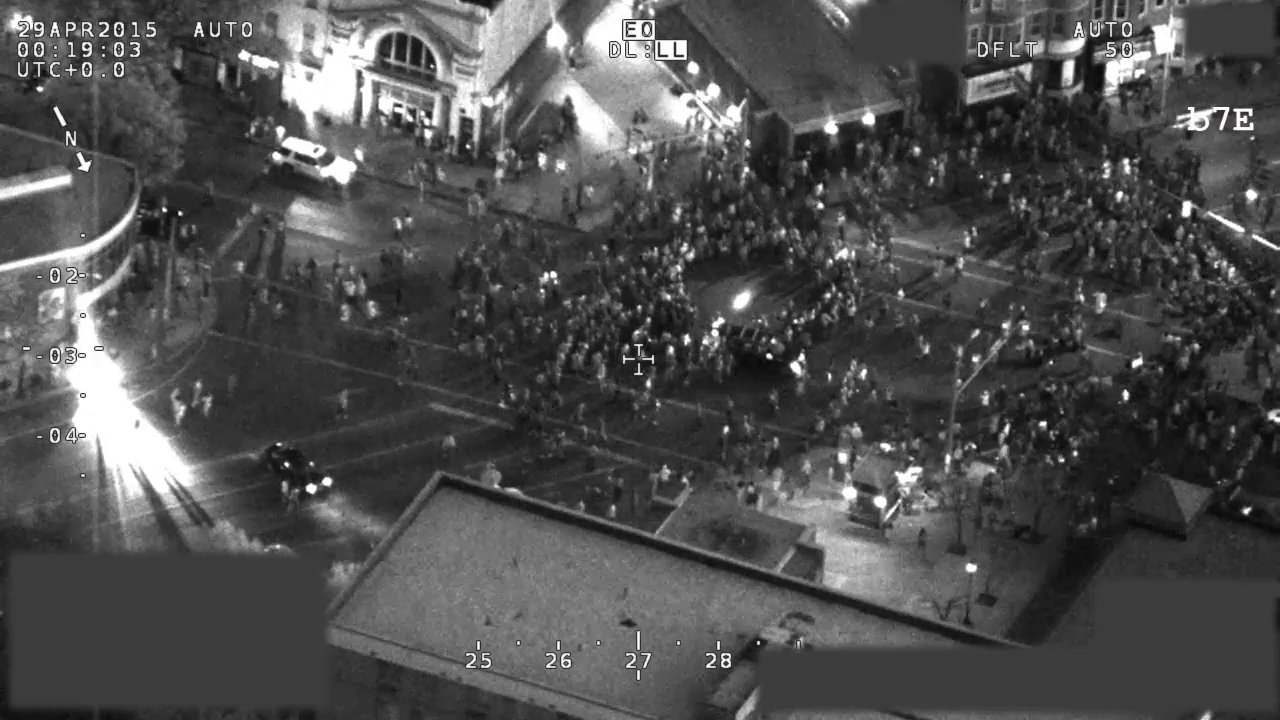vehicle: (266, 132, 363, 196), (718, 319, 809, 382), (258, 440, 339, 501)
